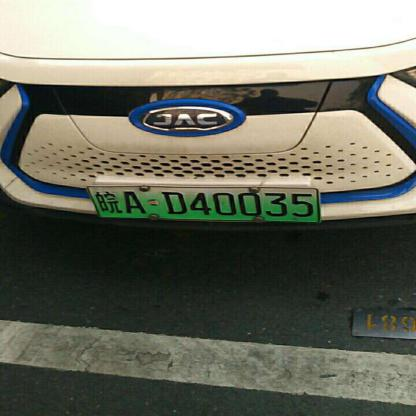lp: (85, 186, 320, 222)
